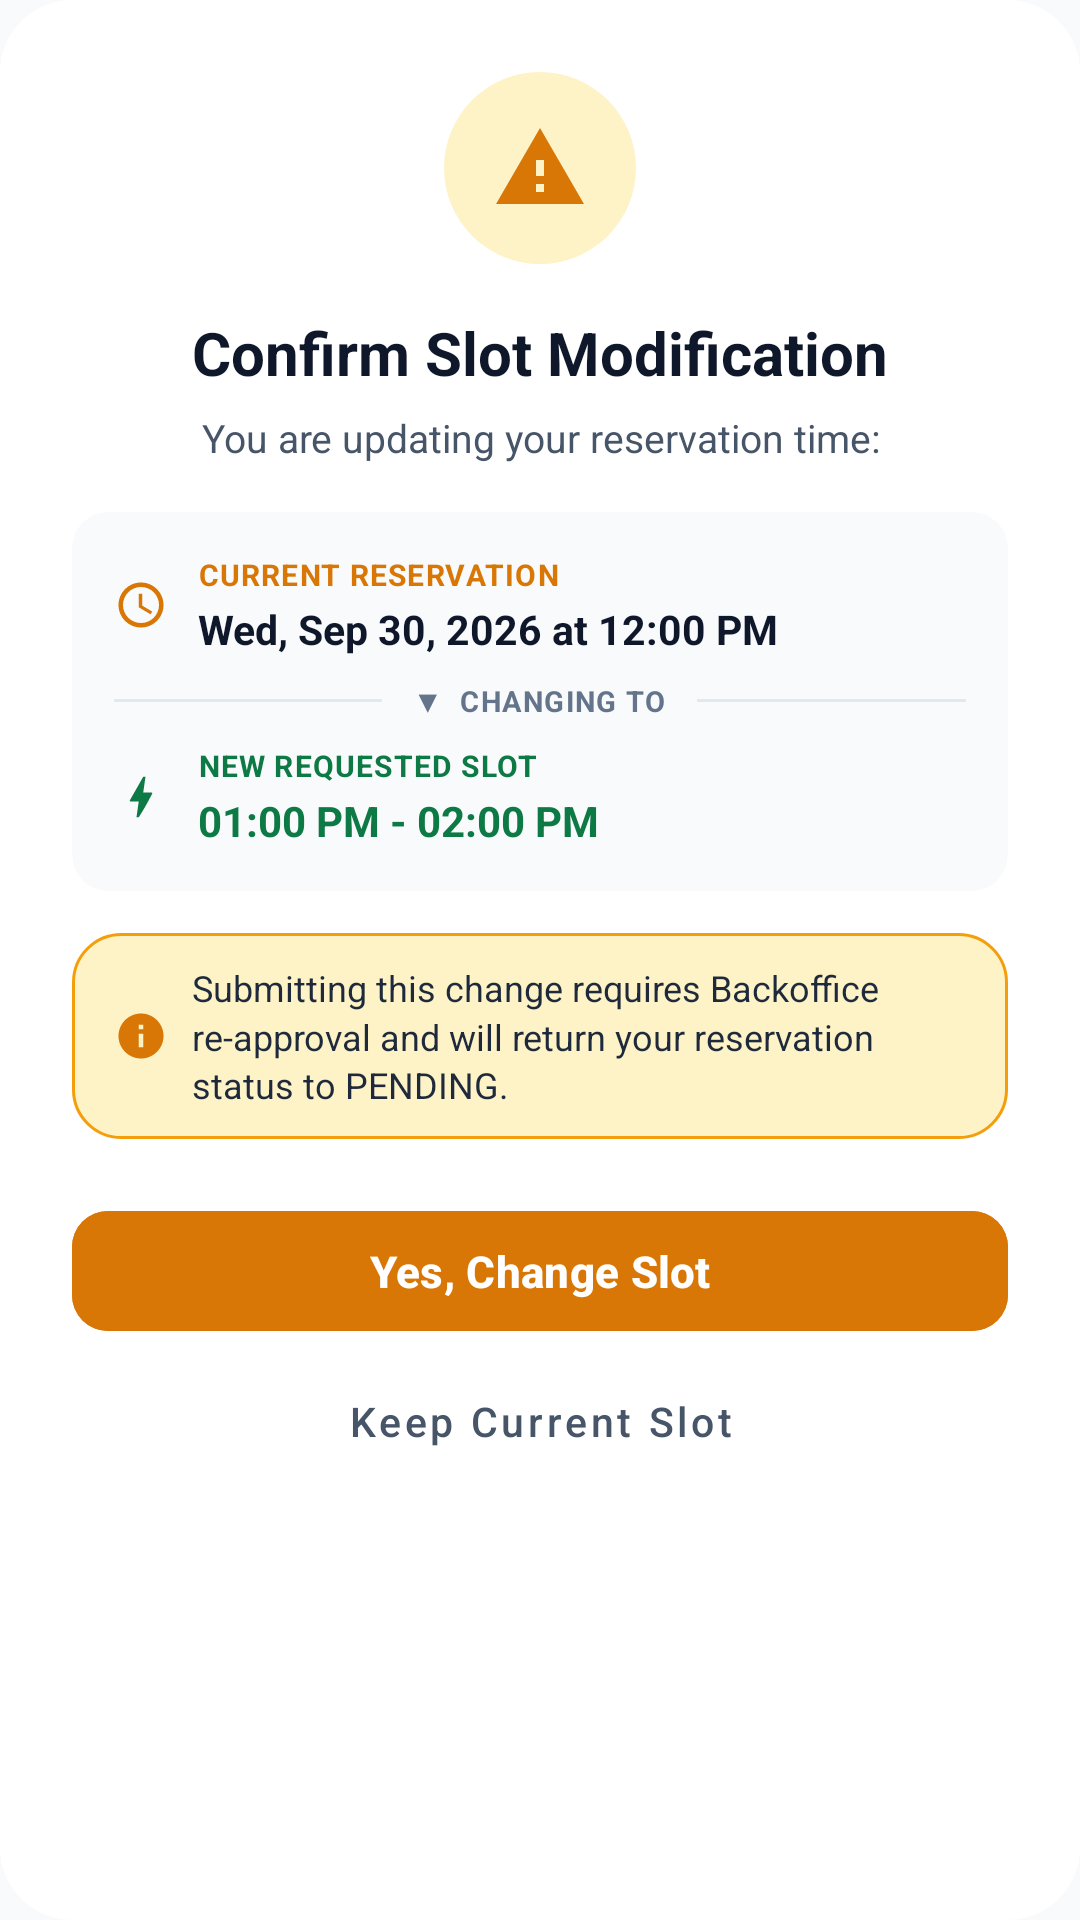

Locate icon controls on the screen. Image size 1080x1920, boxes as region(x1, y1, x2, y2).
Current Slot: region(118, 582, 164, 628)
